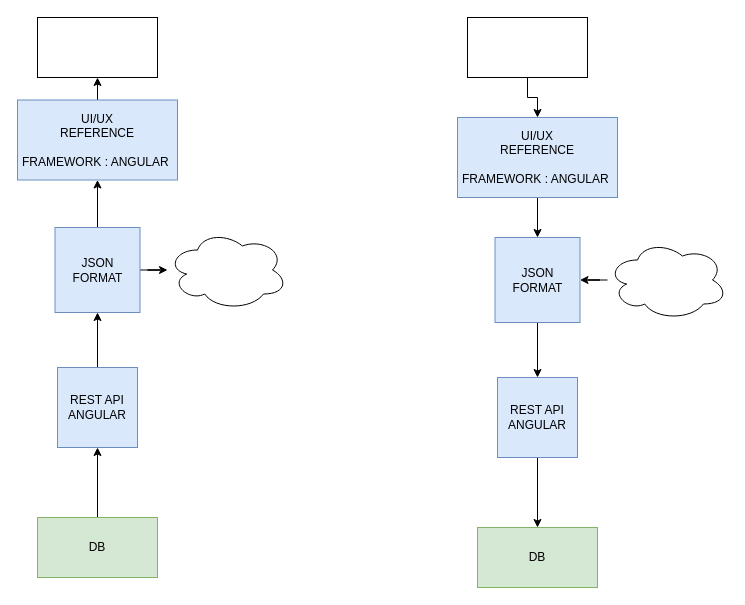
Image size: 745x605. Some labels were removed from this diagram. Here are the shapes that lost their labels. From the top down, the centre of each, then its label:
At pixel 97 47: "GET DATA FLOW".
At pixel 527 47: "SET DATA FLOW".
At pixel 227 269: "GET CALL()".
At pixel 667 279: "SET CALL()".
